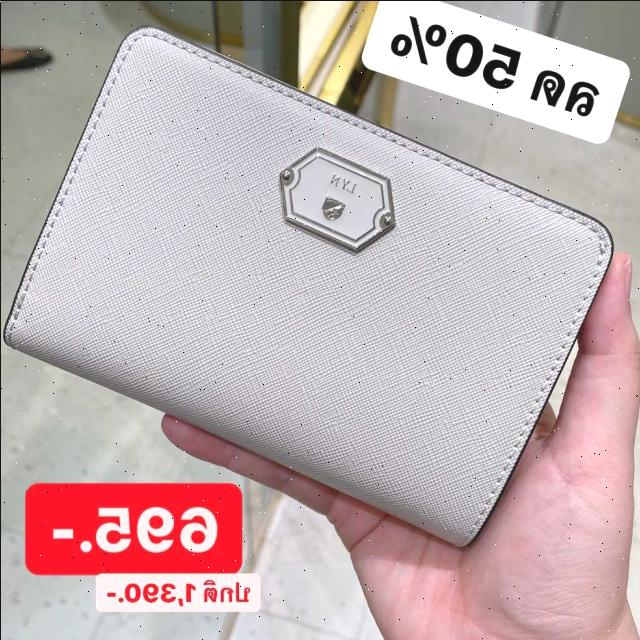Handbag: (0, 24, 629, 552)
